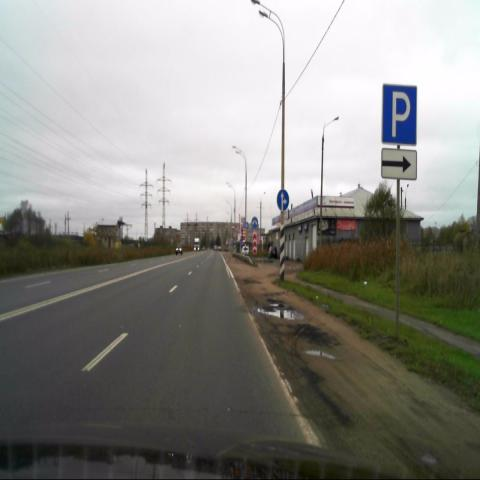4_1_4: (277, 189, 289, 211)
6_4: (382, 83, 418, 147)
8_3_1: (382, 149, 416, 181)
